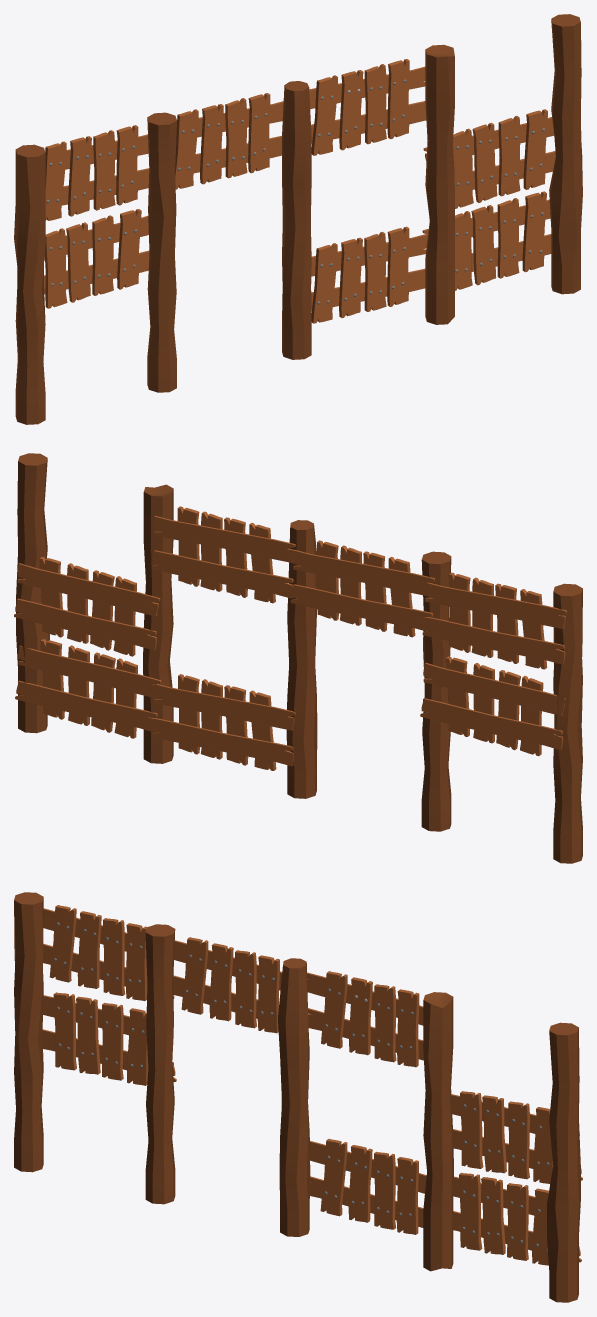
Rendered from Fence3.fbx.
3 views of the same model, one above another, from view 1: azimuth 30°, elevation 25°; view 2: azimuth 150°, elevation 25°; view 3: azimuth 330°, elevation 25° (orthographic).
Parts seen in each view (by area): view 1: fence_03; view 2: fence_03; view 3: fence_03.
Boxes of the visible parts, <box> form: fence_03: <box>14,14,582,424</box>; fence_03: <box>14,453,582,863</box>; fence_03: <box>14,892,582,1302</box>.
Bounding box in the file's own units: 17.95 × 8.14 × 1.07.
